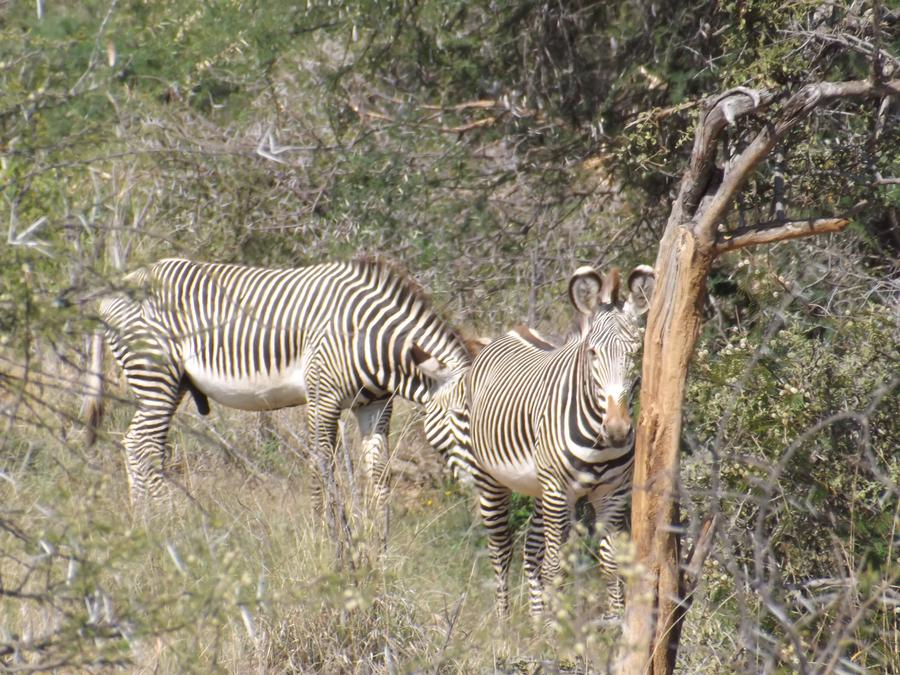zebra_grevys: (88, 242, 365, 407)
